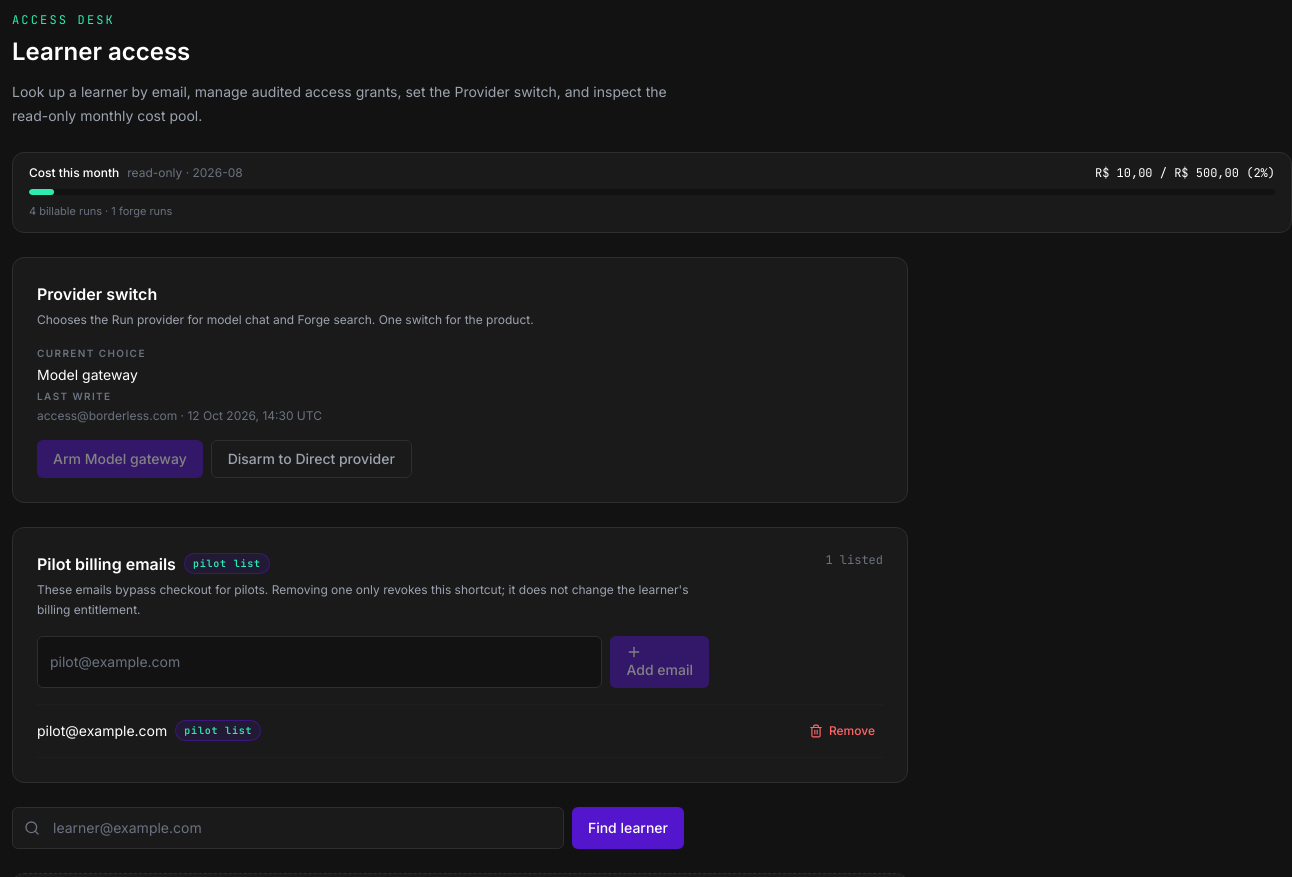
Test: AccessDesk Provider switch › keeps the recorded writer and shows why a refused disarm failed
What coordinates should you click on to do the following:
click the button with test id "operator-provider-switch-disarm"
I would click on:
 (311, 458)
Its box is [211, 440, 412, 478].
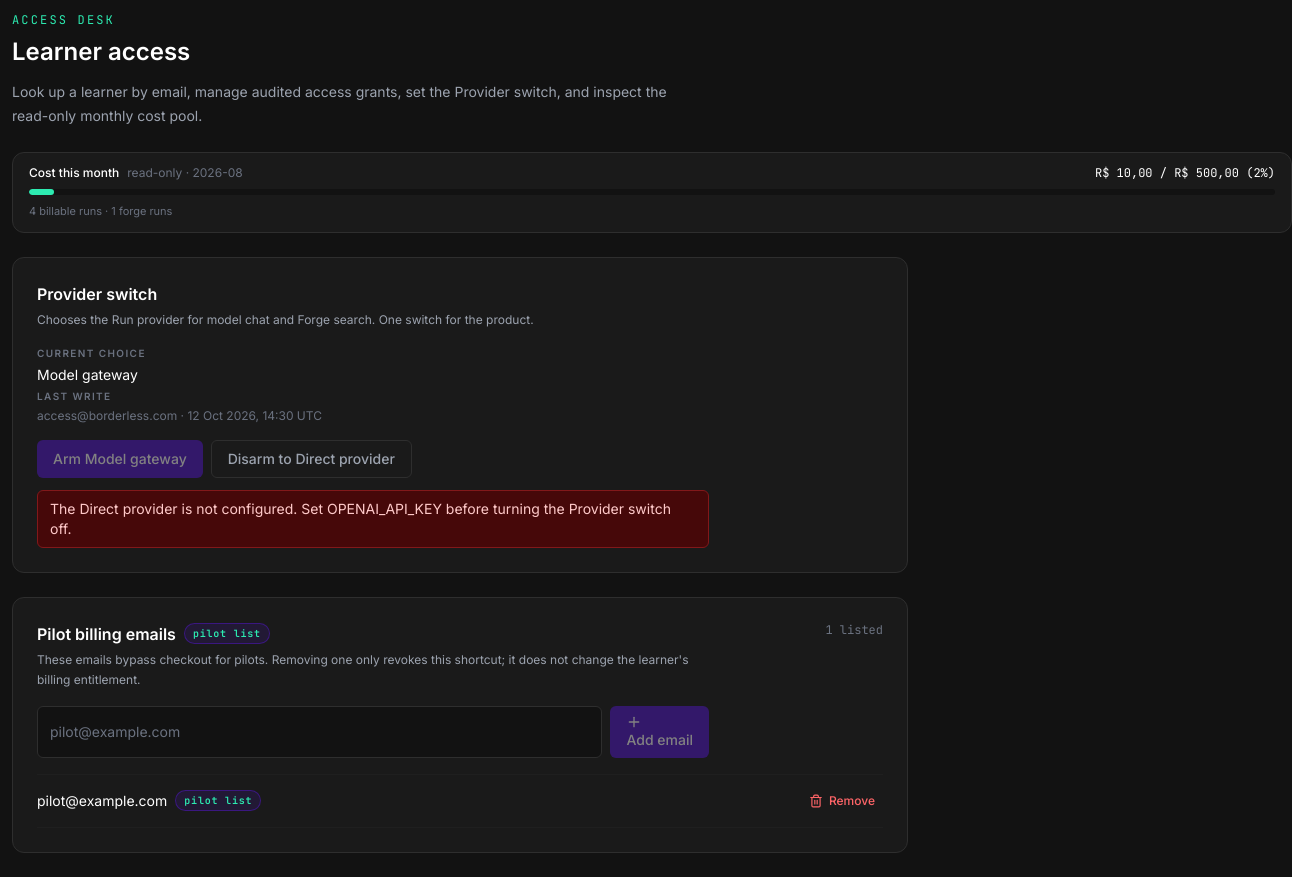
Expected: the text with test id "operator-provider-switch-choice" reads "Model gateway", [37, 366, 138, 382]
Result: the message with test id "operator-provider-switch-error" shows "The Direct provider is not configured. Set OPENAI_API_KEY before turning the Provider switch off." at [50, 500, 671, 536]
